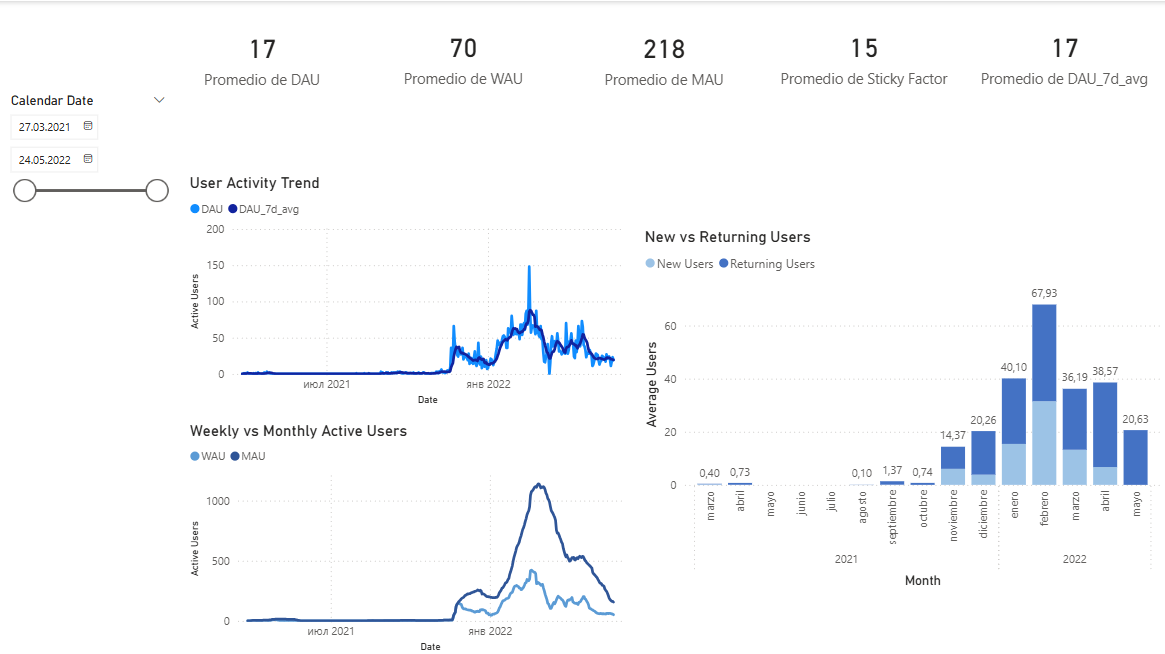

The page's visual inventory and layout, read from the dashboard file:
{"tool":"powerbi","page":{"name":"Overview","canvas":[1280,720],"ordinal":0},"visuals":[{"type":"card","fields":{"Values":["Avg(mart agg_daily_platform_kpis.wau)"]},"box":[399.3,0,220.9,120],"z":0},{"type":"card","fields":{"Values":["Avg(mart agg_daily_platform_kpis.mau)"]},"box":[620,1.4,220,120],"z":1000},{"type":"card","fields":{"Values":["Avg(mart agg_daily_platform_kpis.dau)"]},"box":[178.4,1.4,220.9,120],"z":2000},{"type":"card","fields":{"Values":["Avg(mart agg_daily_platform_kpis.sticky_factor)"]},"box":[839.6,0,220,120],"z":3000},{"type":"card","fields":{"Values":["Avg(mart agg_daily_platform_kpis.dau_7d_avg)"]},"box":[1059.1,0,220.9,120],"z":4000},{"type":"lineChart","title":"User Activity Trend","fields":{"Y":["Sum(mart agg_daily_platform_kpis.dau)","Sum(mart agg_daily_platform_kpis.dau_7d_avg)"],"Category":["mart dim_calendar.calendar_date.Variación.Jerarquía de fechas.Año","mart dim_calendar.calendar_date.Variación.Jerarquía de fechas.Trimestre","mart dim_calendar.calendar_date.Variación.Jerarquía de fechas.Mes","mart dim_calendar.calendar_date.Variación.Jerarquía de fechas.Día"]},"box":[203.8,189.6,500.3,260],"z":5000},{"type":"columnChart","title":"New vs Returning Users","fields":{"Category":["mart dim_calendar.month_start.Variación.Jerarquía de fechas.Año","mart dim_calendar.month_start.Variación.Jerarquía de fechas.Mes"],"Y":["Avg(mart agg_daily_platform_kpis.new_users)","Avg(mart agg_daily_platform_kpis.returning_users)"]},"box":[704.1,248,575.9,400.5],"z":6000},{"type":"lineChart","title":"Weekly vs Monthly Active Users","fields":{"Y":["Sum(mart agg_daily_platform_kpis.wau)","Sum(mart agg_daily_platform_kpis.mau)"],"Category":["mart dim_calendar.calendar_date.Variación.Jerarquía de fechas.Año","mart dim_calendar.calendar_date.Variación.Jerarquía de fechas.Trimestre","mart dim_calendar.calendar_date.Variación.Jerarquía de fechas.Mes","mart dim_calendar.calendar_date.Variación.Jerarquía de fechas.Día"]},"box":[203.8,460.4,500.3,259.4],"z":7000},{"type":"slicer","fields":{"Values":["mart dim_calendar.calendar_date"]},"box":[0,96.1,194.9,152.3],"z":8000}]}

Visuals, with their boxes in screenshot pixels (x1, y1, x2, y2), scaled from the page's 1280x720 canvas onto the 1165x654 screenshot:
card - Avg(mart agg_daily_platform_kpis.wau): 363 0 564 109
card - Avg(mart agg_daily_platform_kpis.mau): 564 1 765 110
card - Avg(mart agg_daily_platform_kpis.dau): 162 1 363 110
card - Avg(mart agg_daily_platform_kpis.sticky_factor): 764 0 964 109
card - Avg(mart agg_daily_platform_kpis.dau_7d_avg): 964 0 1164 109
"User Activity Trend" lineChart: 185 172 641 408
"New vs Returning Users" columnChart: 641 225 1164 589
"Weekly vs Monthly Active Users" lineChart: 185 418 641 653
slicer - mart dim_calendar.calendar_date: 0 87 177 226
